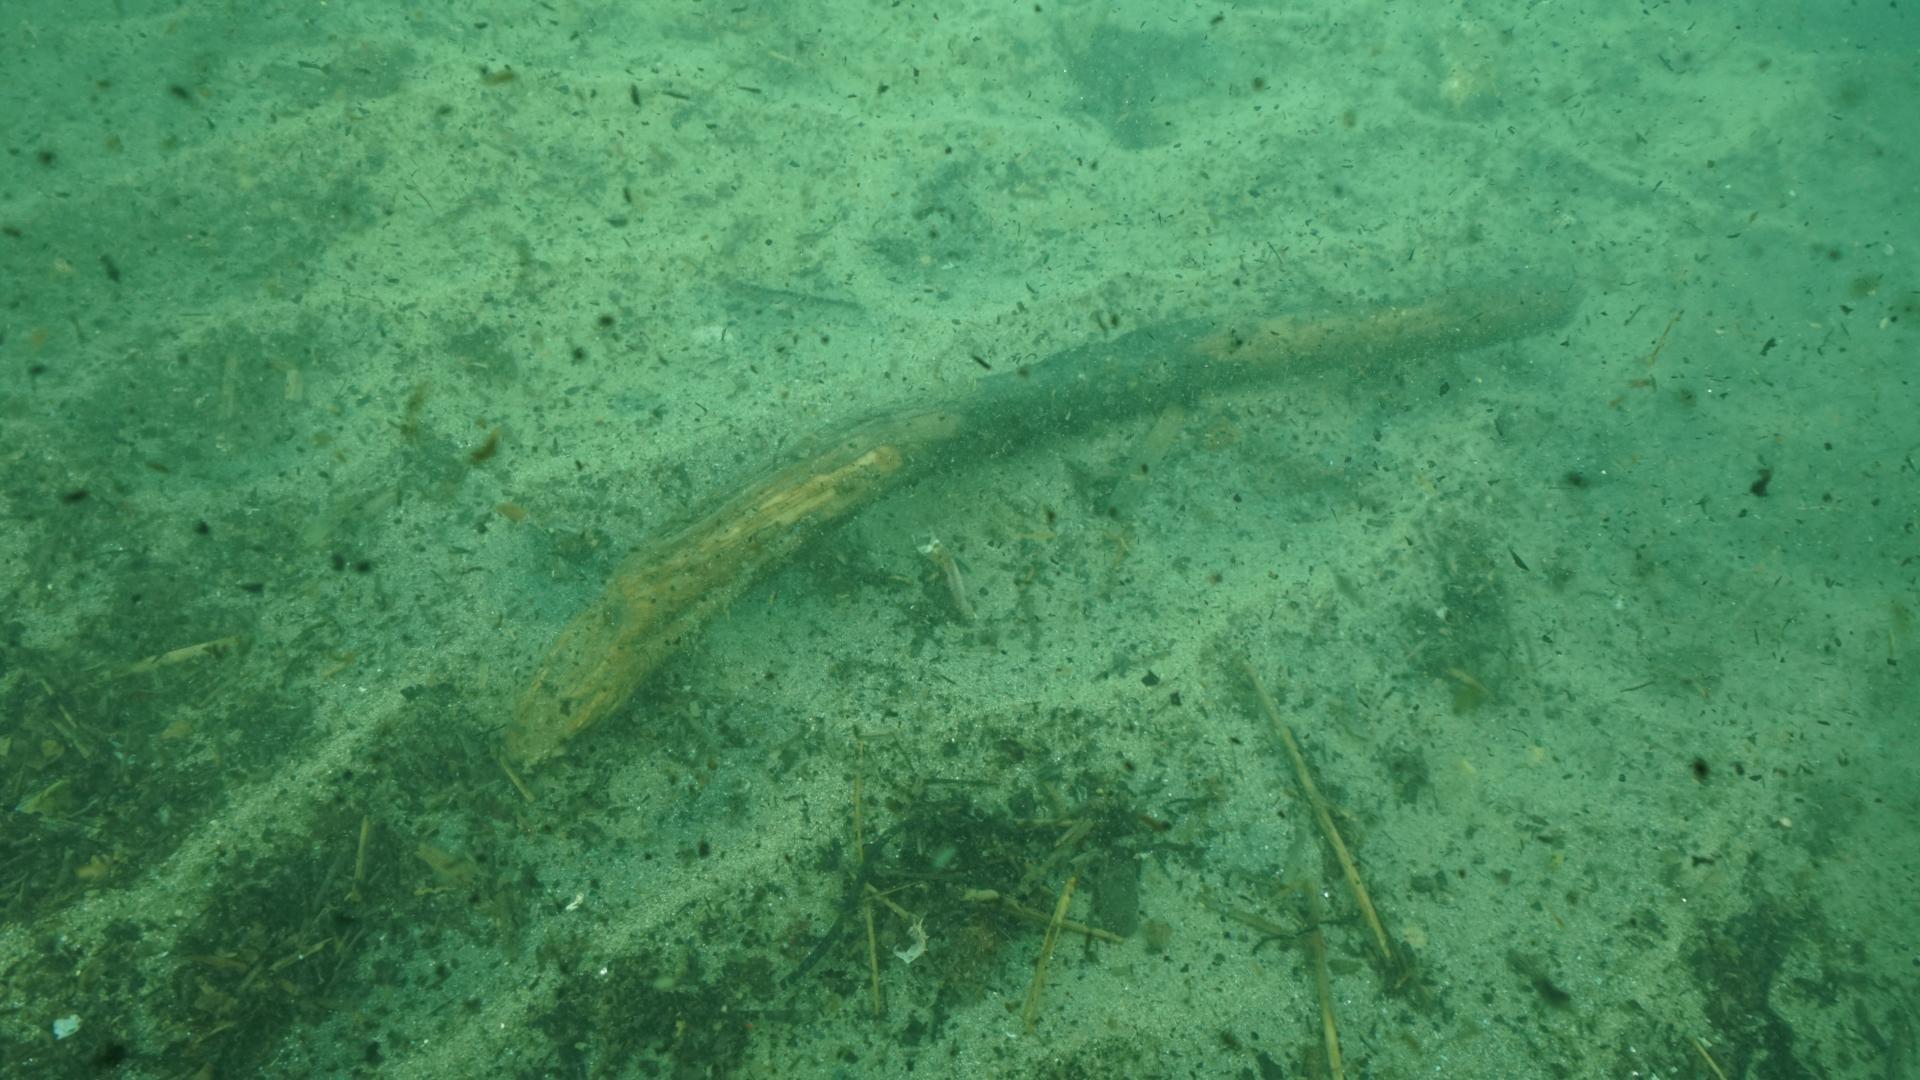wood: (495, 260, 1582, 773)
